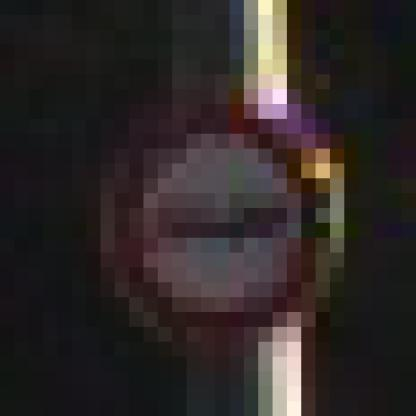No Overtaking: (87, 75, 345, 343)
